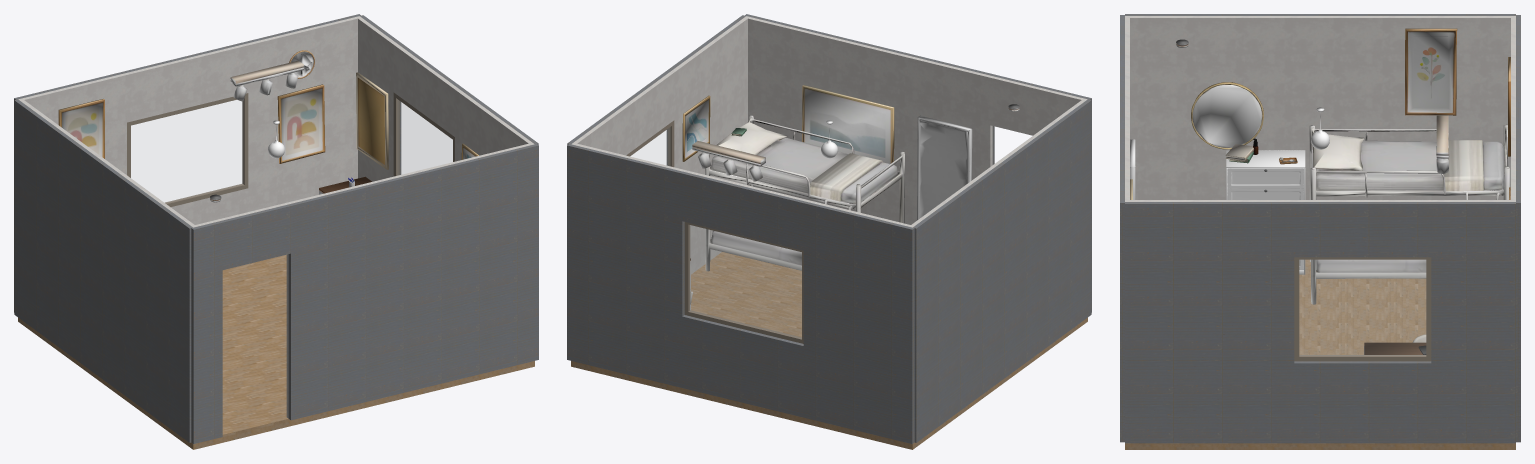
Rendered from scene_named.glb.
3 renders of one model, left to right at view 1: azimuth 30°, elevation 25°; view 2: azimuth 150°, elevation 25°; view 3: azimuth 270°, elevation 25°, orthographic. The views are drawn at different scales.
Visible parts, largest first — view 1: south_wall_exterior_bedroom/south_wall_exterior_bedroom/geom, west_wall_exterior_bedroom/west_wall_exterior_bedroom/geomet, north_wall_bedroom/north_wall_bedroom/geometry_0, floor_bedroom, east_wall_bedroom/east_wall_bedroom/geometry_0, window_1_bedroom/window_1_bedroom/glass, art_print_1, window_2_bedroom/window_2_bedroom/glass, bulletin_board_0, window_1_bedroom/window_1_bedroom/frame, art_print_0, south_wall_bedroom/south_wall_bedroom/geometry_0 (+5 smaller); view 2: north_wall_exterior_bedroom/north_wall_exterior_bedroom/geom, west_wall_exterior_bedroom/west_wall_exterior_bedroom/geomet, south_wall_bedroom/south_wall_bedroom/geometry_0, east_wall_bedroom/east_wall_bedroom/geometry_0, bunk_bed_1, floor_bedroom, window_1_bedroom/window_1_bedroom/glass, landscape_print_0, mirror_0, window_1_bedroom/window_1_bedroom/frame, spotlight_bar_0, south_wall_exterior_bedroom/south_wall_exterior_bedroom/geom (+5 smaller); view 3: east_wall_exterior_bedroom/east_wall_exterior_bedroom/geomet, west_wall_bedroom/west_wall_bedroom/geometry_0, bunk_bed_0, window_2_bedroom/window_2_bedroom/glass, floor_bedroom, art_print_3, mirror_1, window_2_bedroom/window_2_bedroom/frame, north_wall_exterior_bedroom/north_wall_exterior_bedroom/geom, south_wall_exterior_bedroom/south_wall_exterior_bedroom/geom, chest_of_drawers_0/E_drawer_1_4, chest_of_drawers_0/body (+7 smaller).
Boxes of the visible parts, box(x1,y1,x2,y2) form: south_wall_exterior_bedroom/south_wall_exterior_bedroom/geom: box(191, 144, 538, 443); west_wall_exterior_bedroom/west_wall_exterior_bedroom/geomet: box(14, 99, 192, 442); north_wall_bedroom/north_wall_bedroom/geometry_0: box(22, 17, 357, 224); floor_bedroom: box(18, 254, 534, 449); east_wall_bedroom/east_wall_bedroom/geometry_0: box(356, 16, 534, 181); window_1_bedroom/window_1_bedroom/glass: box(131, 100, 242, 202); art_print_1: box(277, 84, 325, 163); window_2_bedroom/window_2_bedroom/glass: box(397, 100, 452, 174); bulletin_board_0: box(356, 72, 388, 169); window_1_bedroom/window_1_bedroom/frame: box(127, 93, 248, 207); art_print_0: box(58, 99, 104, 158); south_wall_bedroom/south_wall_bedroom/geometry_0: box(195, 143, 530, 418); north_wall_exterior_bedroom/north_wall_exterior_bedroom/geom: box(567, 144, 914, 443); west_wall_exterior_bedroom/west_wall_exterior_bedroom/geomet: box(913, 99, 1091, 442); south_wall_bedroom/south_wall_bedroom/geometry_0: box(748, 17, 1083, 224); east_wall_bedroom/east_wall_bedroom/geometry_0: box(571, 16, 749, 274); bunk_bed_1: box(705, 115, 904, 271); floor_bedroom: box(571, 252, 1087, 449); window_1_bedroom/window_1_bedroom/glass: box(690, 225, 801, 337); landscape_print_0: box(802, 85, 894, 163); mirror_0: box(917, 115, 972, 220); window_1_bedroom/window_1_bedroom/frame: box(684, 222, 803, 343); spotlight_bar_0: box(692, 141, 765, 181); south_wall_exterior_bedroom/south_wall_exterior_bedroom/geom: box(745, 14, 1091, 312); east_wall_exterior_bedroom/east_wall_exterior_bedroom/geomet: box(1125, 202, 1515, 443); west_wall_bedroom/west_wall_bedroom/geometry_0: box(1125, 16, 1515, 199); bunk_bed_0: box(1309, 124, 1509, 304); window_2_bedroom/window_2_bedroom/glass: box(1299, 260, 1425, 355); floor_bedroom: box(1125, 259, 1515, 449); art_print_3: box(1405, 28, 1457, 115); mirror_1: box(1191, 82, 1263, 149); window_2_bedroom/window_2_bedroom/frame: box(1294, 257, 1431, 361); north_wall_exterior_bedroom/north_wall_exterior_bedroom/geom: box(1516, 15, 1520, 442); south_wall_exterior_bedroom/south_wall_exterior_bedroom/geom: box(1120, 15, 1124, 442); chest_of_drawers_0/E_drawer_1_4: box(1227, 168, 1303, 188); chest_of_drawers_0/body: box(1226, 150, 1305, 274).
Bounding box in the file's own units: 4.6 × 2.8 × 4.1.
36 materials, 29 textured.
